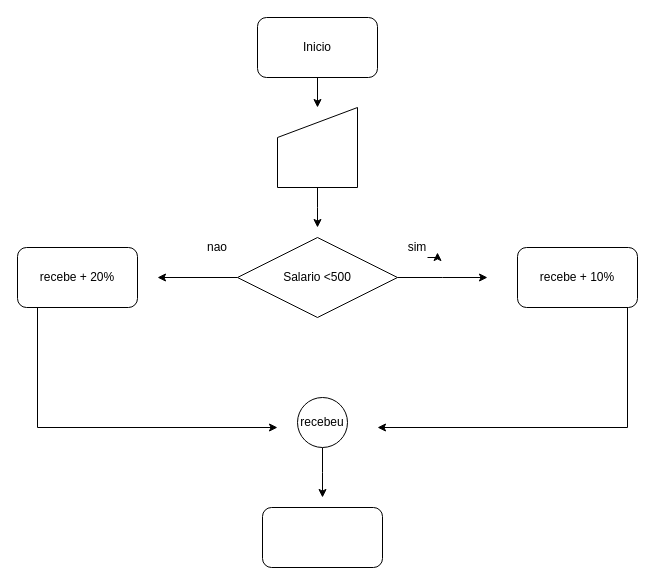
This 655x585 diagram has some shape labels left out. Each missing label, with the box of its shape:
FIM: (262, 506, 382, 568)
salario: (276, 106, 358, 188)
